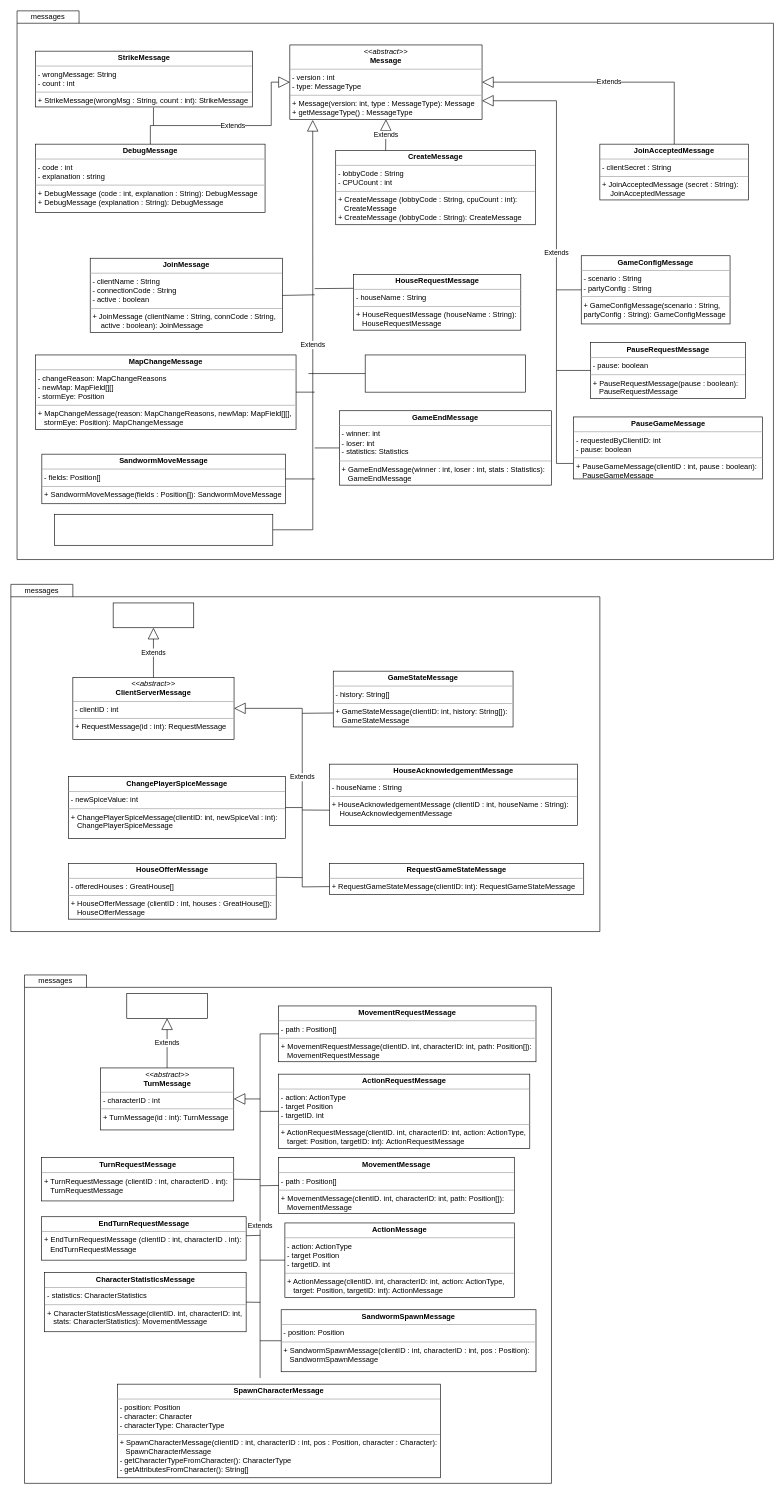
This 784x1494 diagram has some shape labels left out. Here are the shapes that lost their labels. From the top down, the centre of each, then its label:
At (445,373): "EndGameMessage + EndGameMessage(): EndGameMessage".
At (163,529): "SandwormDespawnMessage + SandwormDespawnMessage(): SandwormDespawnMessage".
At (153,615): "<<abstract>> Message".
At (166,1005): "<<abstract>> ClientServerMessage".
